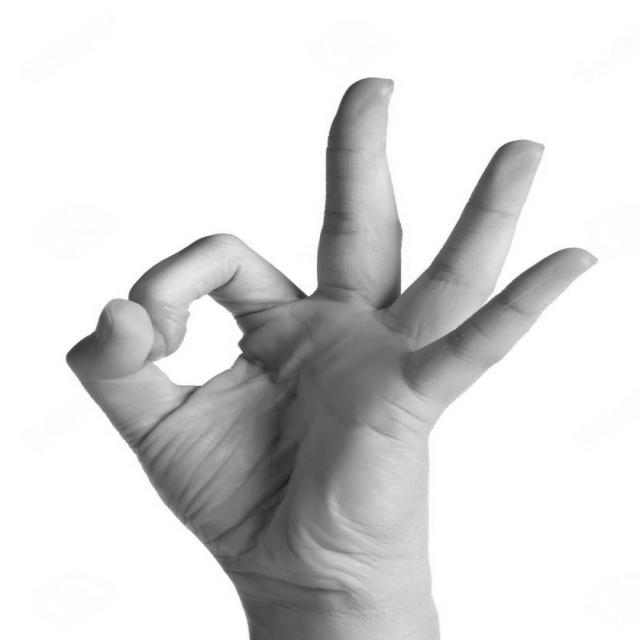perfect: (54, 68, 606, 605)
